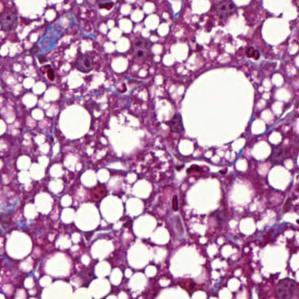steatosis: (178, 68, 256, 146)
